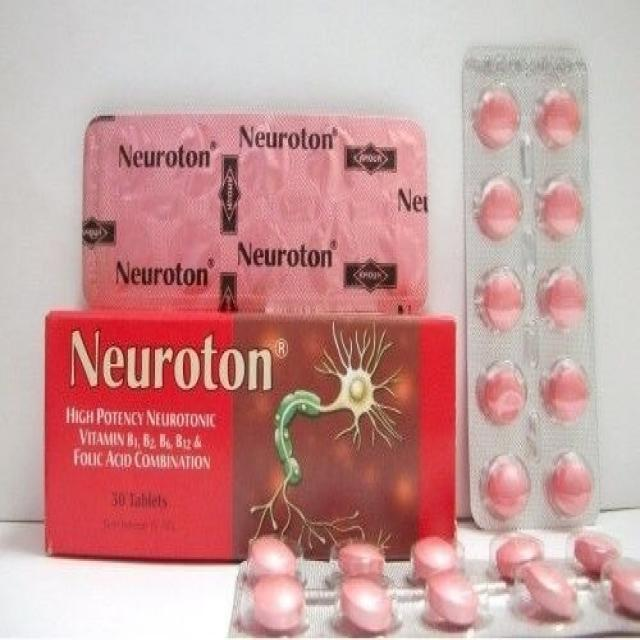drug-name: (72, 329, 275, 394)
